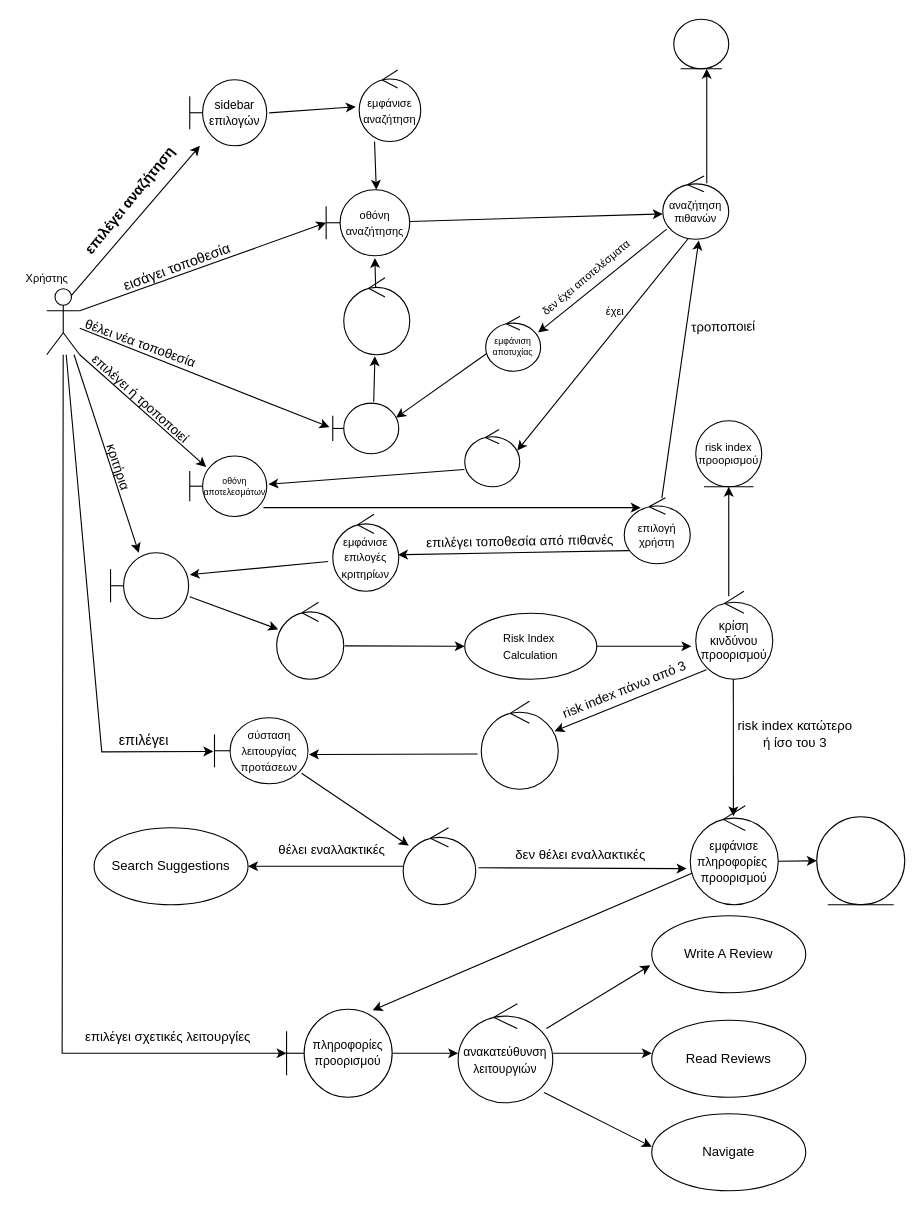
The diagram is 924 pixels wide and 1210 high, and some of its shapes have lost their labels. The centre of each missing label's shape, as x and y in pixels:
ανακατεύθυνση σε προτάσεις: (x=439, y=866)
αποτυχία εντόπισης: (x=365, y=428)
Βάση Δεδομένων Gmaps: (x=701, y=43)
εκκίνηση υπολογισμού: (x=310, y=640)
εμφάνισε επιλογή προτάσεων: (x=519, y=744)
εμφάνιση πιθανών: (x=492, y=457)
επανεκκίνηση: (x=376, y=316)
εφαρμογή risk index: (x=149, y=585)
Πληροφορίες Προορισμου από Gmaps: (x=860, y=860)
